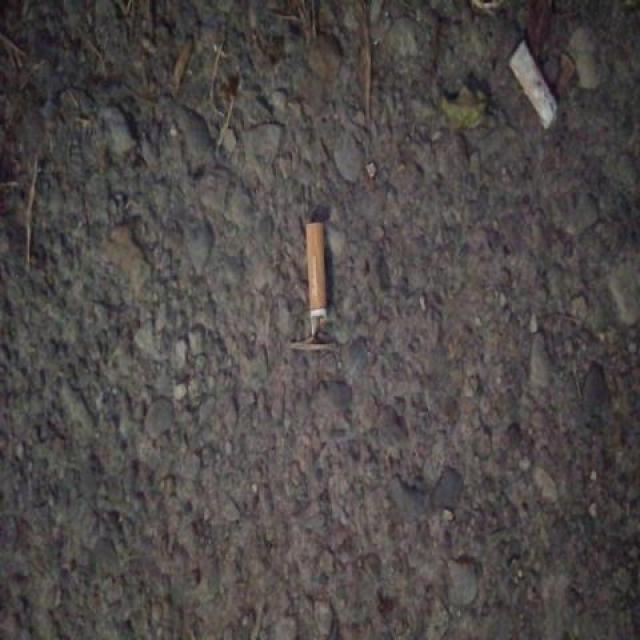non-organic waste: (507, 36, 562, 136), (303, 218, 329, 341)
